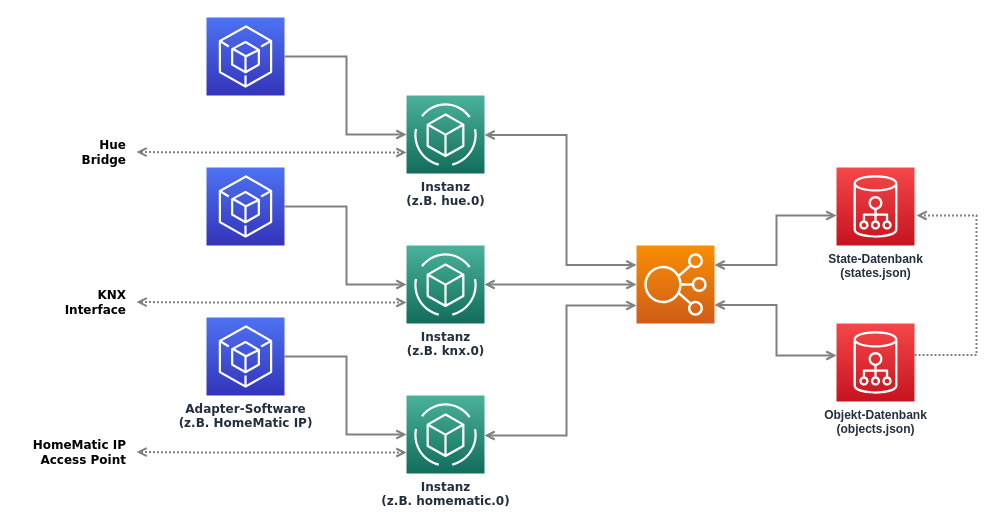
This 1002x527 diagram has some shape labels left out. Here are the shapes that lost their labels. From the top down, the centre of each, then its label:
At point 245,56: "Adapter-Software (z.B. Philips Hue)".
At point 245,206: "Adapter-Software (z.B. KNX)".
At point 675,284: "js-controller".
